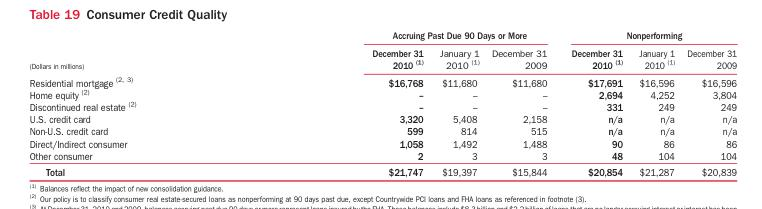table: (28, 29, 736, 177)
table column: (28, 29, 253, 177), (253, 29, 430, 177), (484, 29, 558, 177), (558, 29, 630, 177), (680, 29, 736, 177), (430, 29, 484, 177), (630, 29, 680, 177)
table column header: (28, 29, 736, 58)
table row: (28, 43, 736, 58), (28, 72, 736, 87), (28, 29, 736, 43), (28, 58, 736, 72), (28, 149, 736, 163), (28, 163, 736, 177), (28, 99, 736, 112), (28, 124, 736, 137), (28, 87, 736, 99), (28, 112, 736, 124), (28, 137, 736, 149)
table spanning cell: (253, 29, 558, 43), (558, 29, 736, 43)
